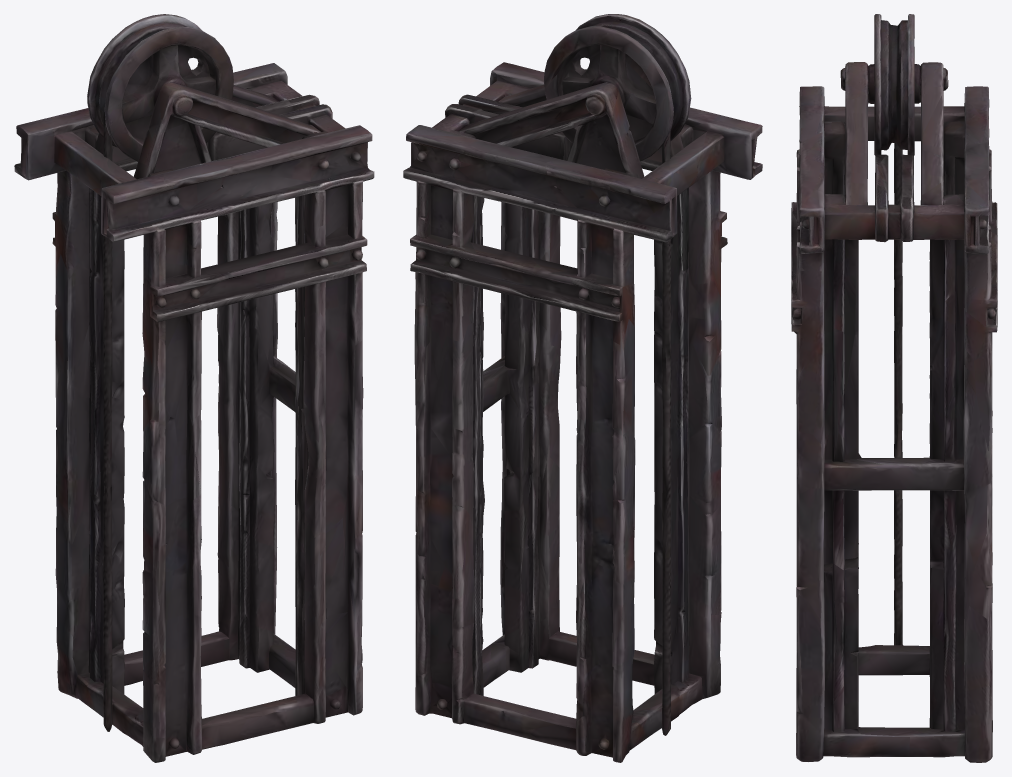
The model's file is mine_winch_idle.glb.
3 renders of one model, left to right at view 1: azimuth 30°, elevation 25°; view 2: azimuth 150°, elevation 25°; view 3: azimuth 270°, elevation 25°, orthographic. The views are drawn at different scales.
Parts seen in each view (by area): view 1: tripo_node_0f87a1a8-335e-46ba-b2b3-d065f9e05d91; view 2: tripo_node_0f87a1a8-335e-46ba-b2b3-d065f9e05d91; view 3: tripo_node_0f87a1a8-335e-46ba-b2b3-d065f9e05d91.
Part boxes in pixels (box(x1,y1,x2,y2)): tripo_node_0f87a1a8-335e-46ba-b2b3-d065f9e05d91: box(14, 14, 374, 762); tripo_node_0f87a1a8-335e-46ba-b2b3-d065f9e05d91: box(403, 14, 762, 762); tripo_node_0f87a1a8-335e-46ba-b2b3-d065f9e05d91: box(791, 14, 997, 762).
Bounding box in the file's own units: 1.39 × 3.5 × 0.9695.
Materials: 1 (1 with a texture image).
